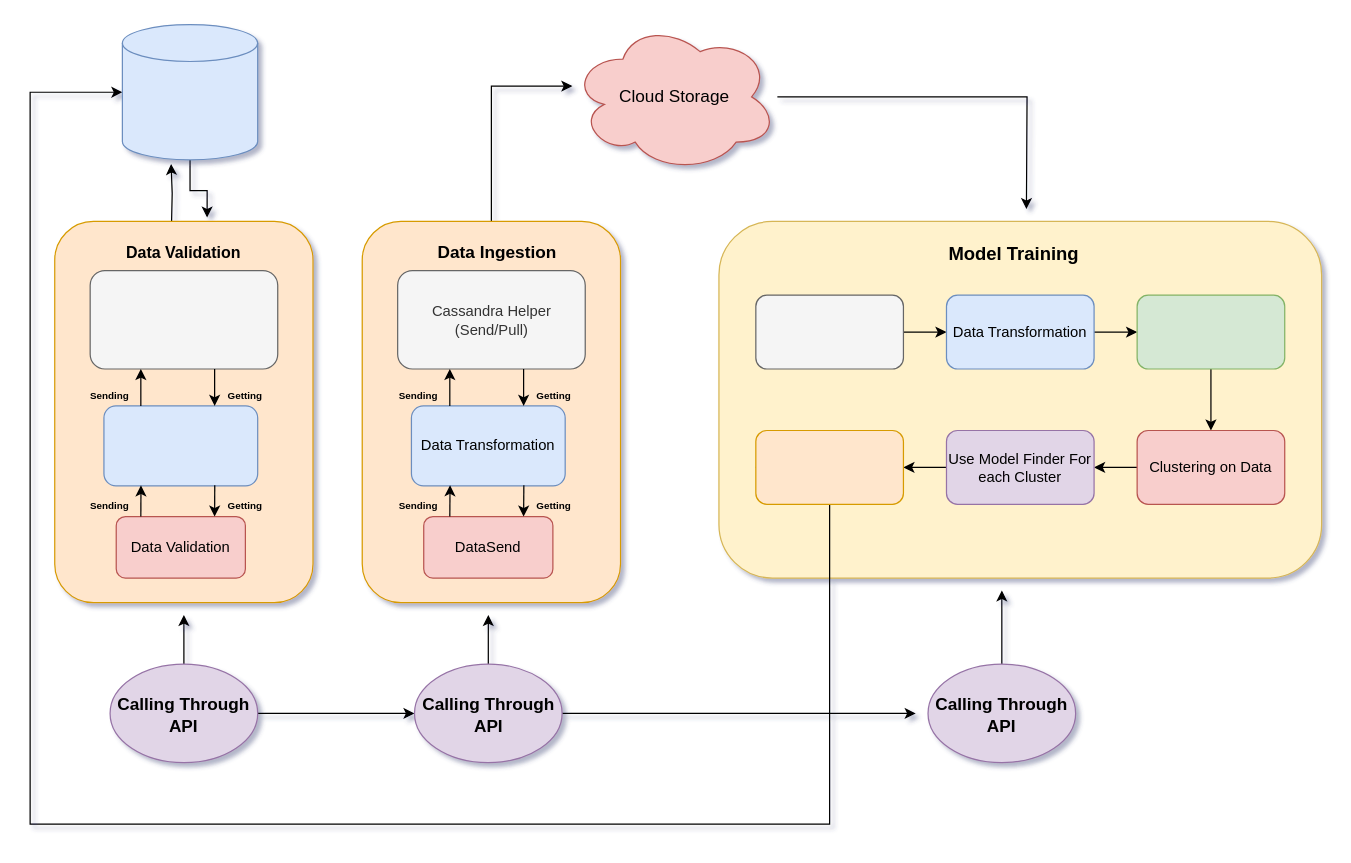
The diagram is 1351 pixels wide and 863 high, and some of its shapes have lost their labels. Each missing label, with the centre of its shape:
"Data Preprocessing" goes at [1210,331].
"Data Pull From Database." goes at [829,331].
"Data Validating" goes at [180,445].
"Data Validator" goes at [183,319].
"Local Storage" goes at [189,91].
"Save Model for each Cluster." goes at [829,466].
